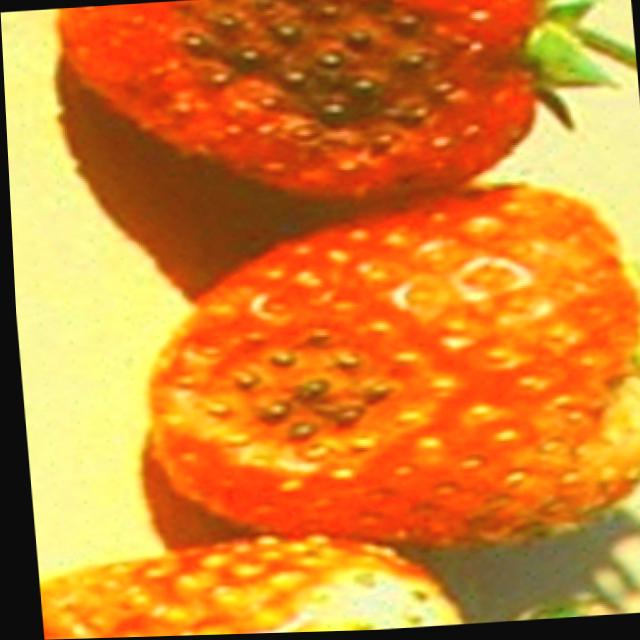Anthracnose Fruit Rot: (172, 0, 483, 163), (172, 318, 419, 475), (229, 548, 457, 635)
